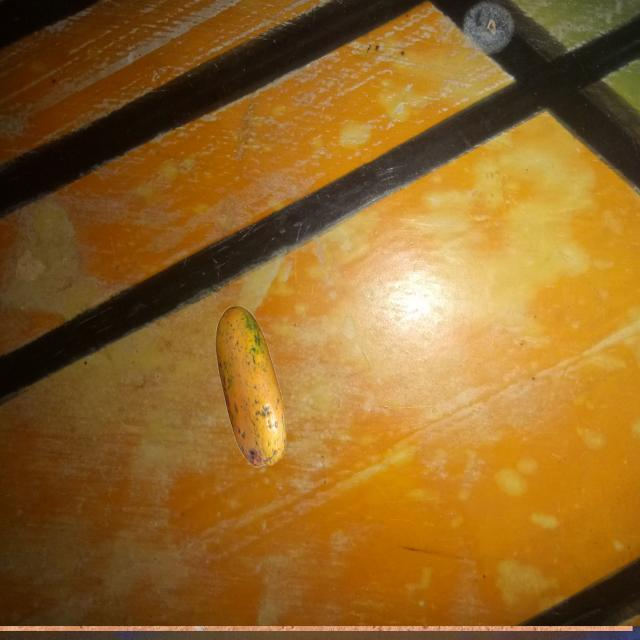Pepaya rippen: (199, 301, 287, 474)
